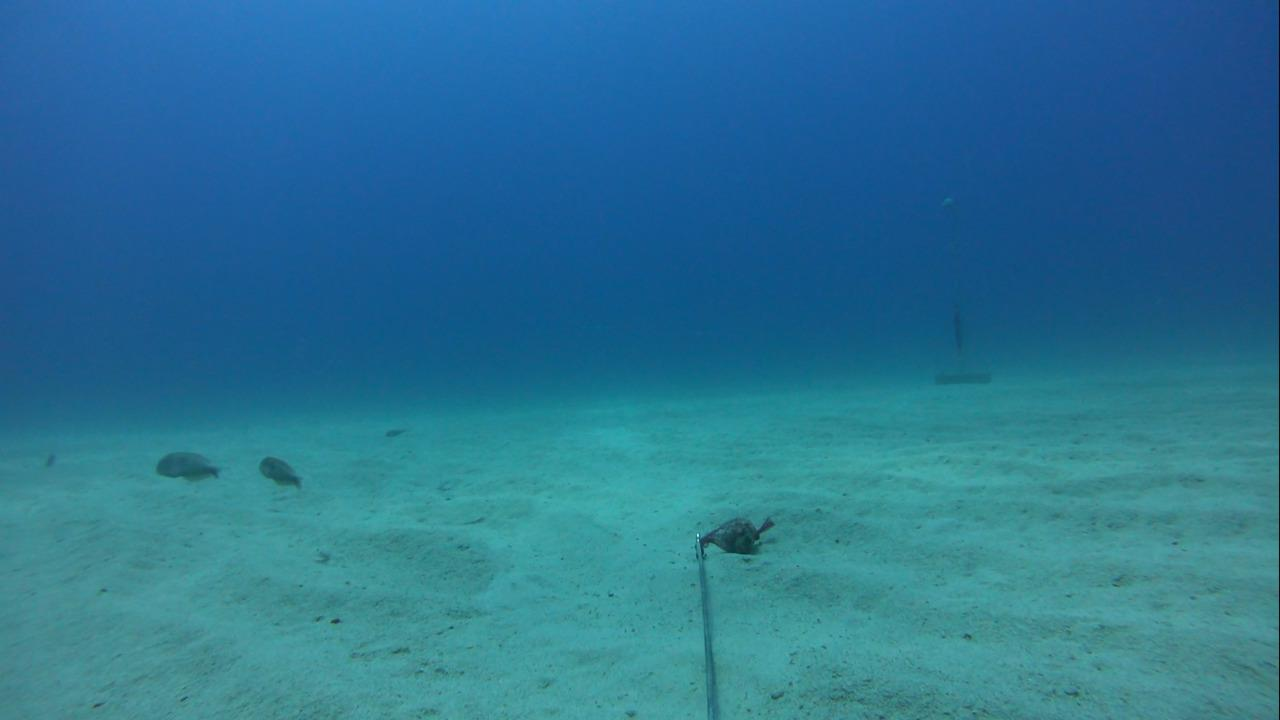raor: (146, 442, 220, 486), (247, 453, 311, 490)
